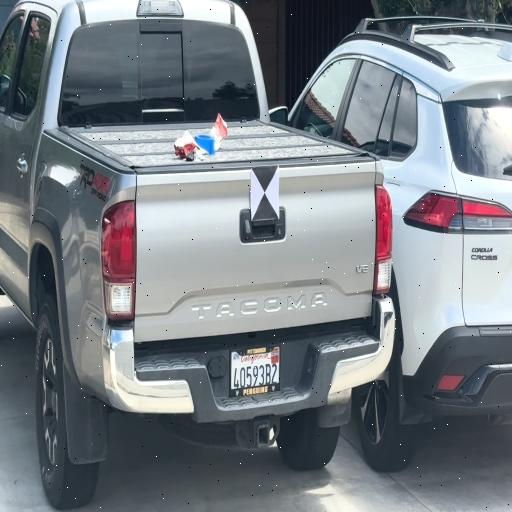target: (250, 166, 280, 220)
